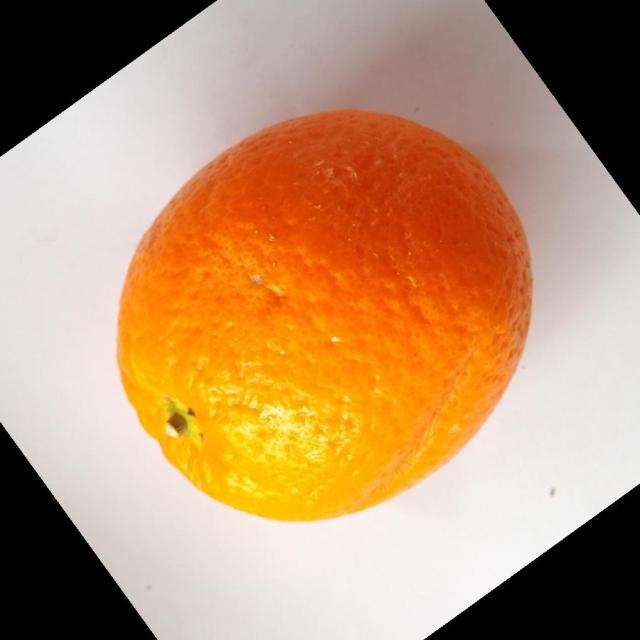agrume: (115, 106, 534, 522)
